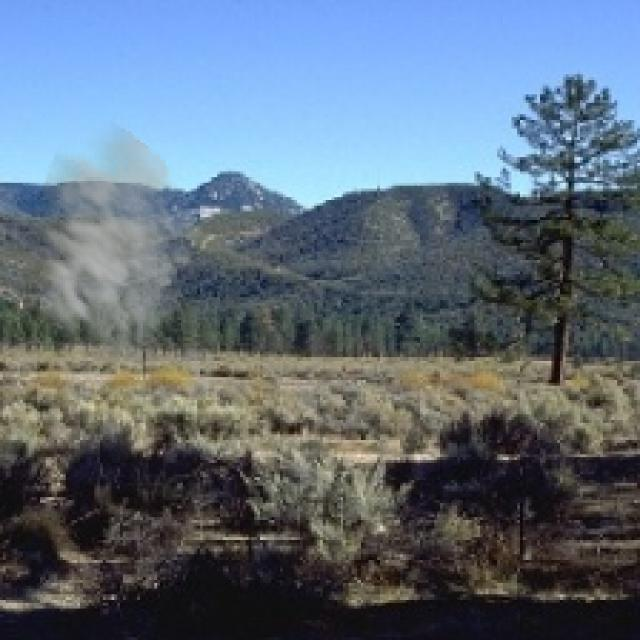smoke: (3, 117, 206, 374)
